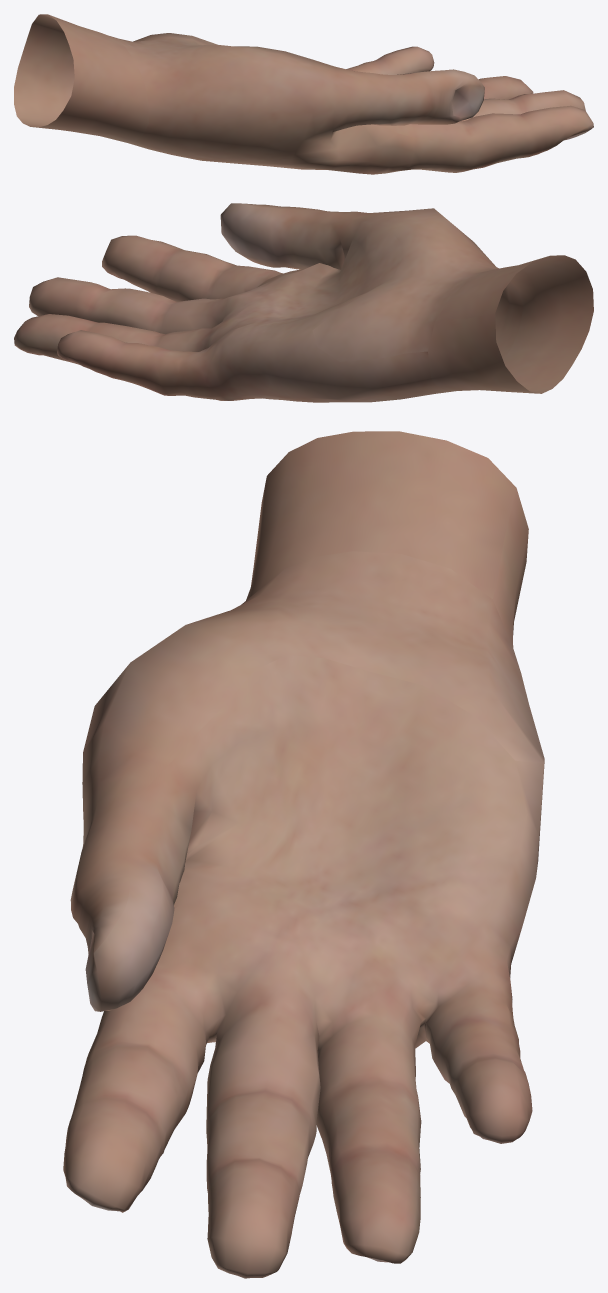
File: hand.dae
3 renders of one model, top to bottom at view 1: azimuth 30°, elevation 25°; view 2: azimuth 150°, elevation 25°; view 3: azimuth 270°, elevation 25°, orthographic. The views are drawn at different scales.
Visible parts, largest first — view 1: v2_Body.001; view 2: v2_Body.001; view 3: v2_Body.001.
Part boxes in pixels (box(x1,y1,x2,y2)): v2_Body.001: box(14, 14, 593, 174); v2_Body.001: box(14, 203, 593, 402); v2_Body.001: box(63, 431, 544, 1278).
Bounding box in the file's own units: 0.246 × 0.0994 × 0.0903.
Materials: 1 (1 with a texture image).
